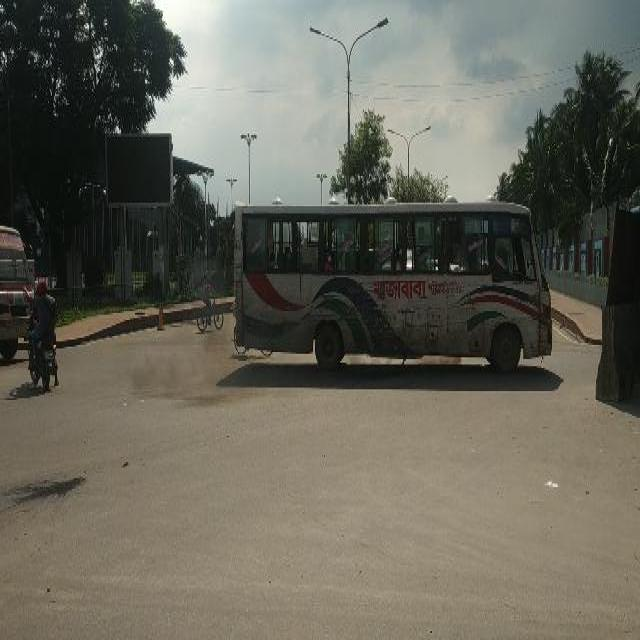bicycle: (195, 292, 222, 334)
bus: (231, 198, 554, 364), (0, 222, 31, 347)
motorbike: (24, 311, 58, 389)
